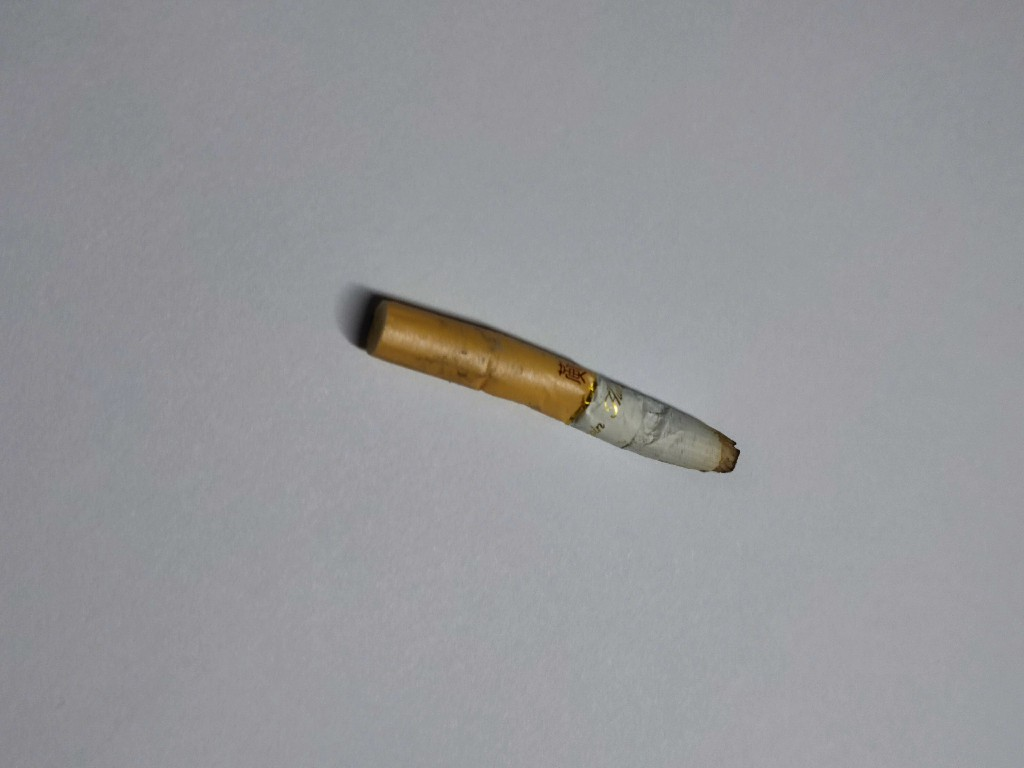cigarette: (356, 291, 743, 482)
